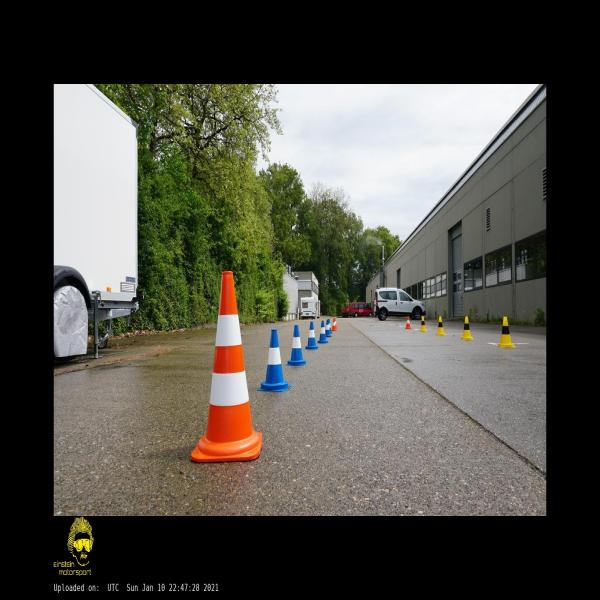blue_cone: (258, 330, 291, 392), (286, 326, 307, 366), (305, 322, 318, 349), (318, 321, 328, 343), (325, 319, 332, 337), (328, 318, 332, 334)
large_orange_cone: (191, 271, 262, 462)
orange_cone: (405, 316, 412, 329), (331, 318, 337, 331)
yellow_cone: (496, 316, 516, 348), (461, 316, 474, 340), (436, 316, 446, 336), (419, 316, 427, 331)
